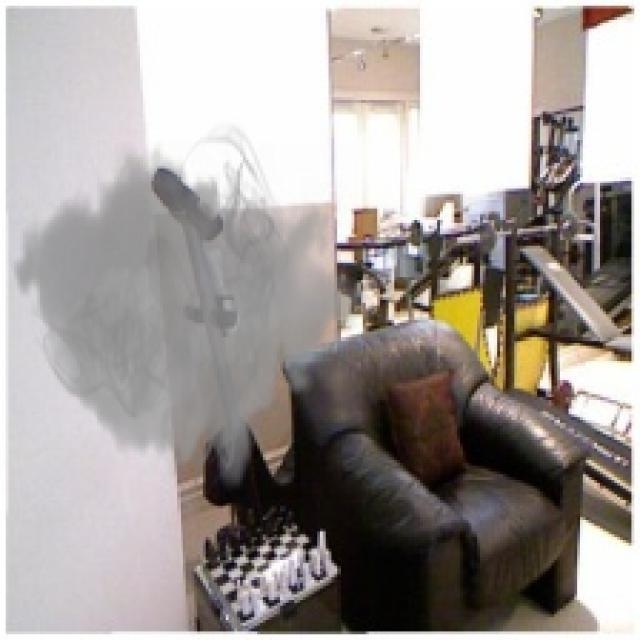Smoke: (11, 117, 368, 503)
